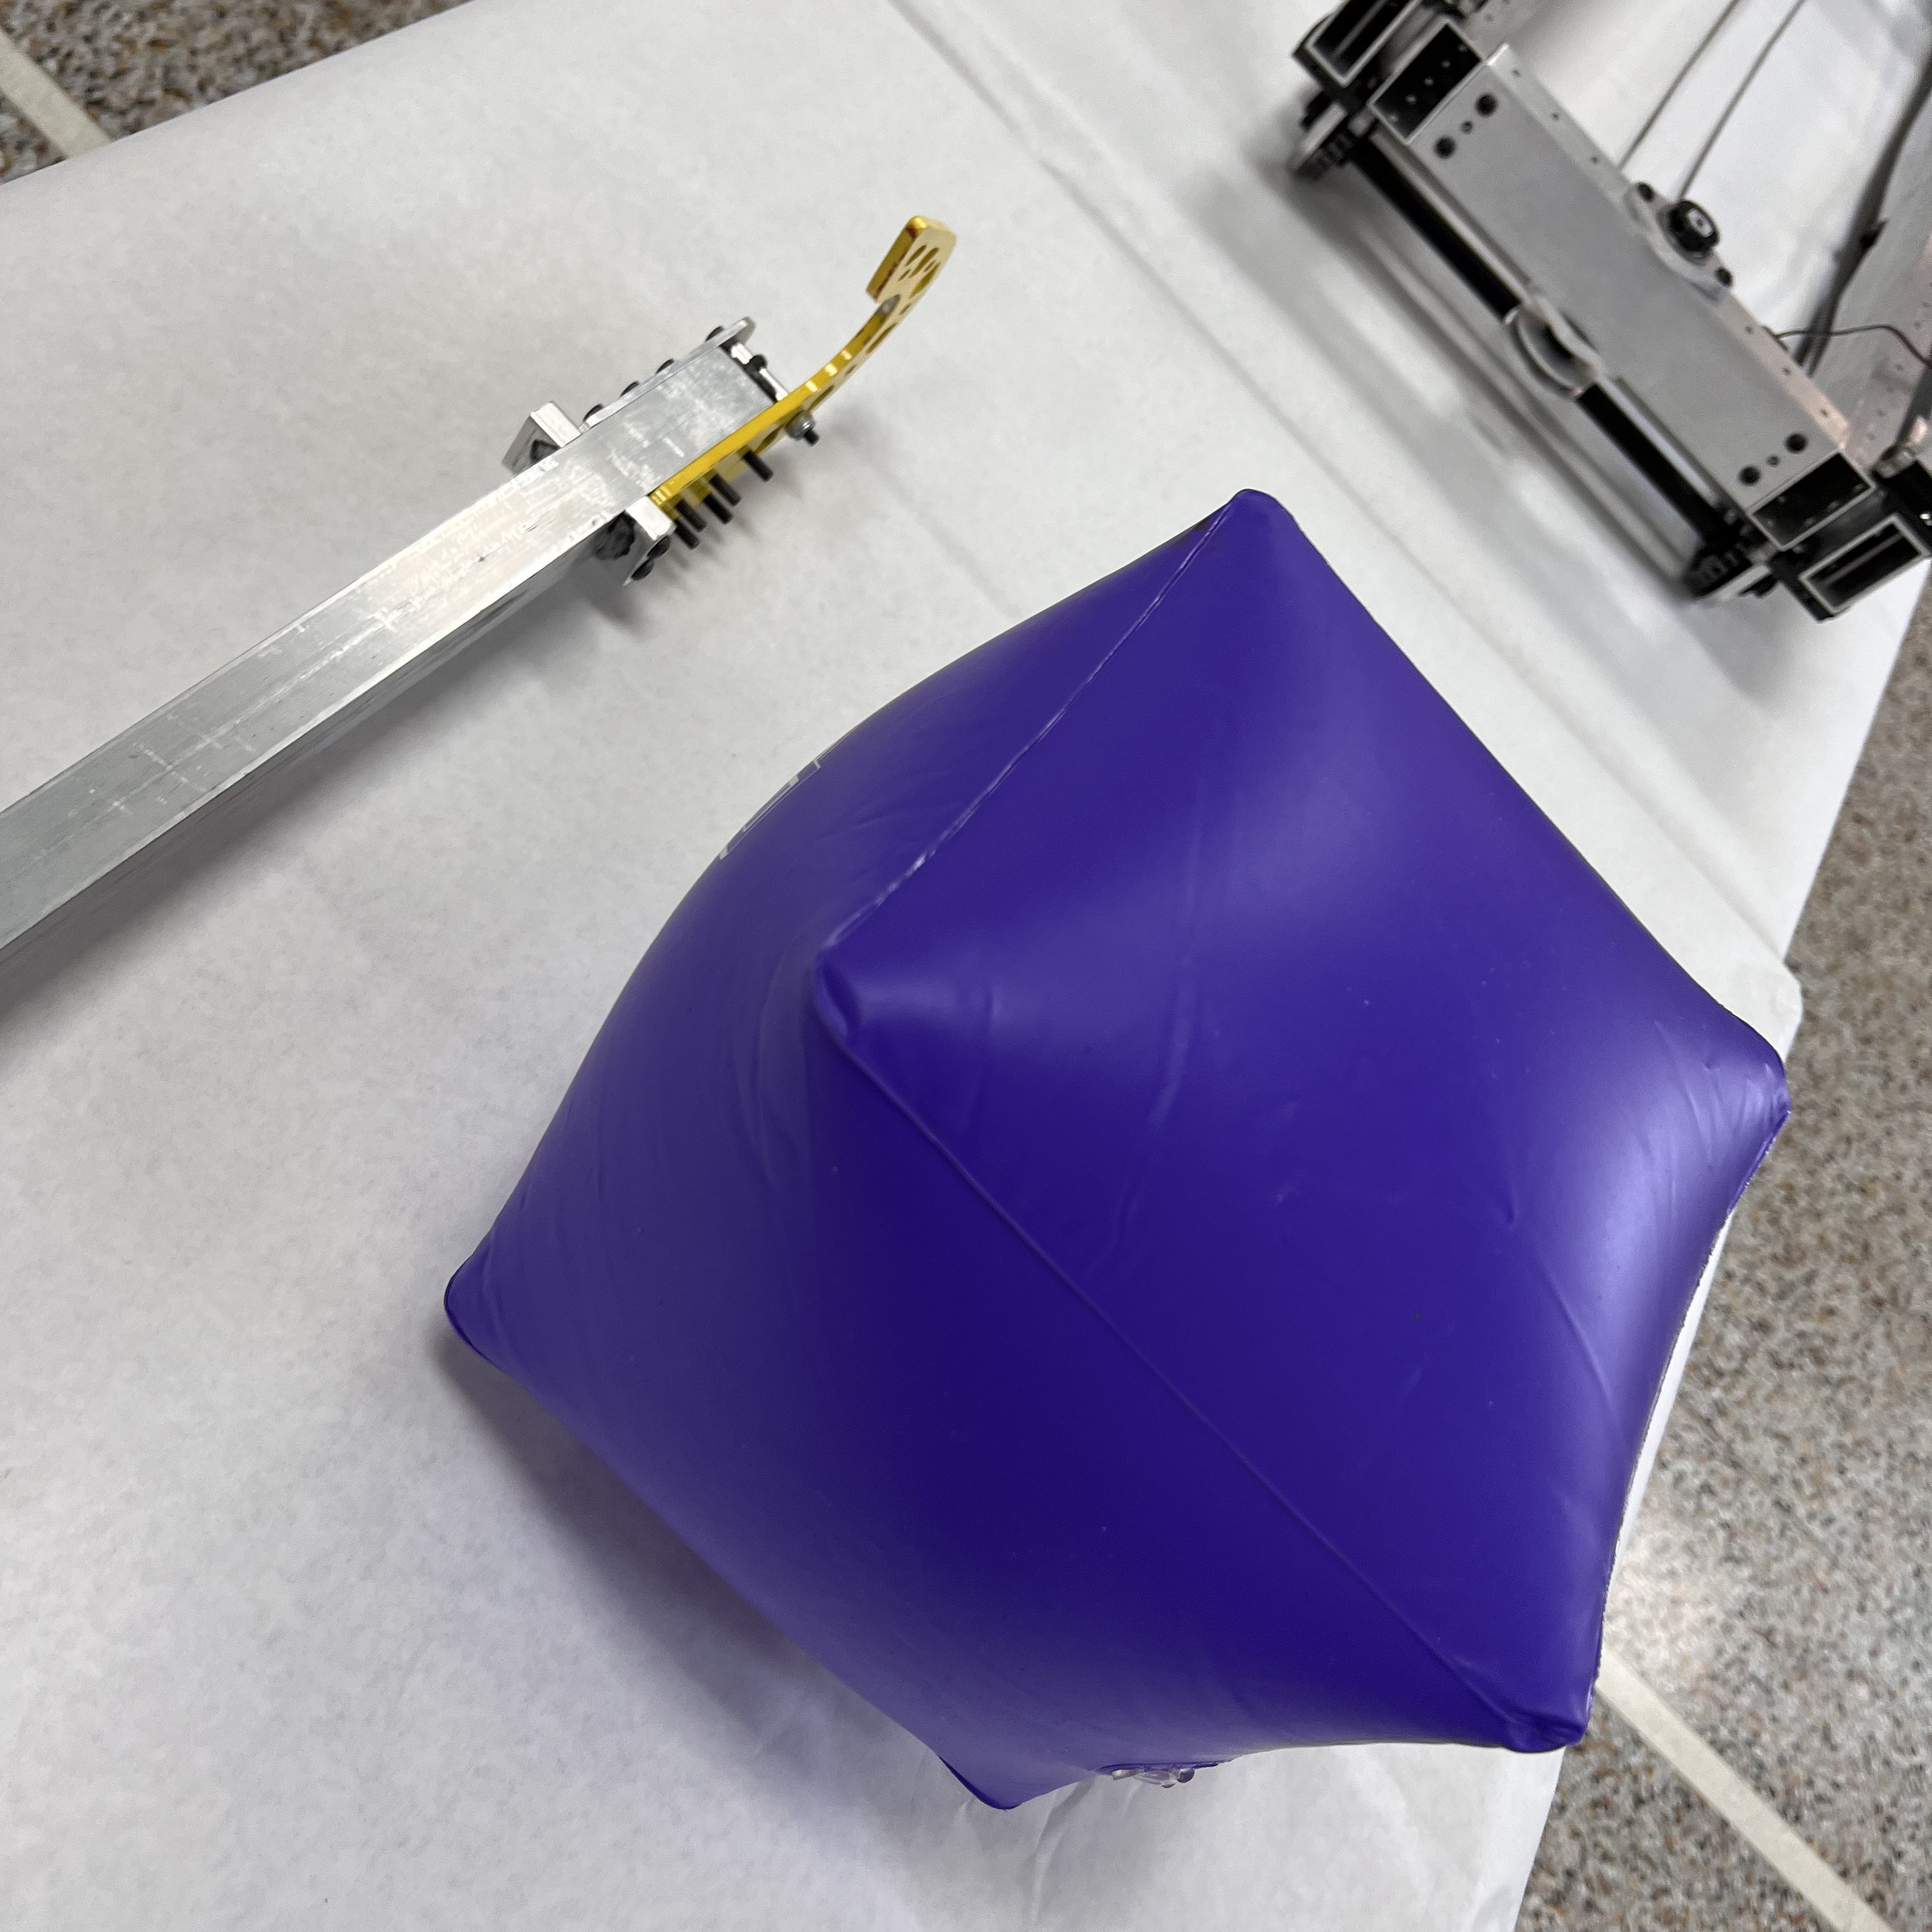cube: (442, 492, 1792, 1812)
